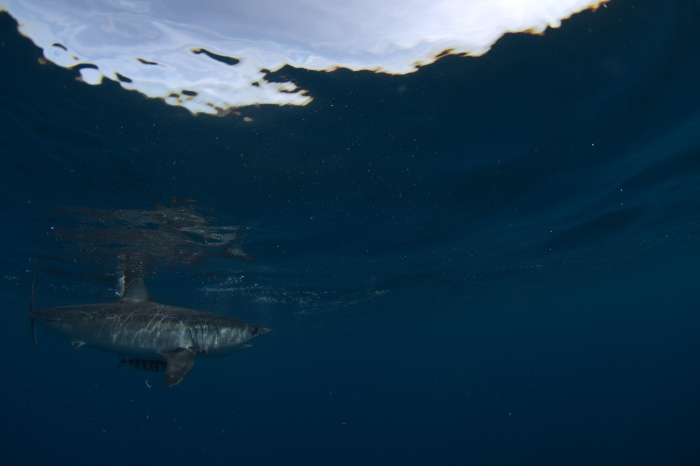Mako: (15, 276, 282, 389)
